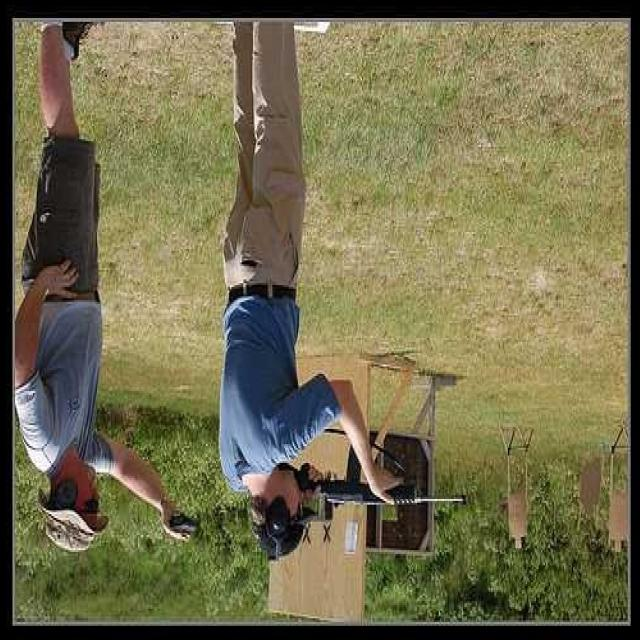heavyweapon: (283, 416, 479, 526)
